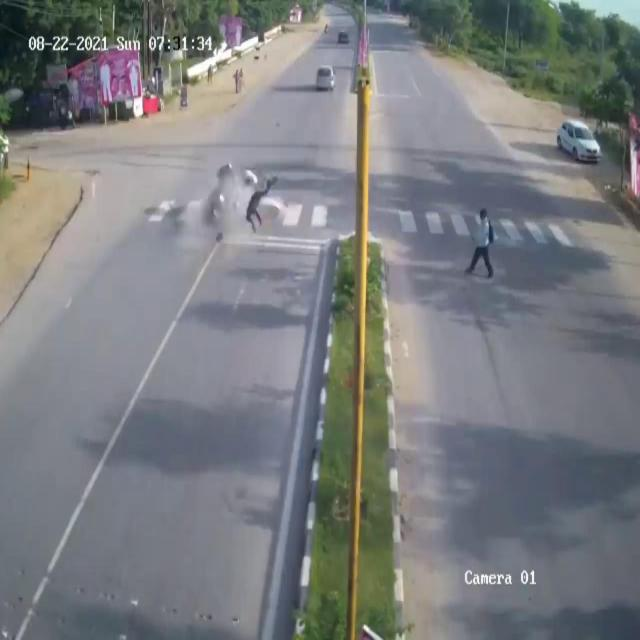accident: (199, 153, 284, 259)
